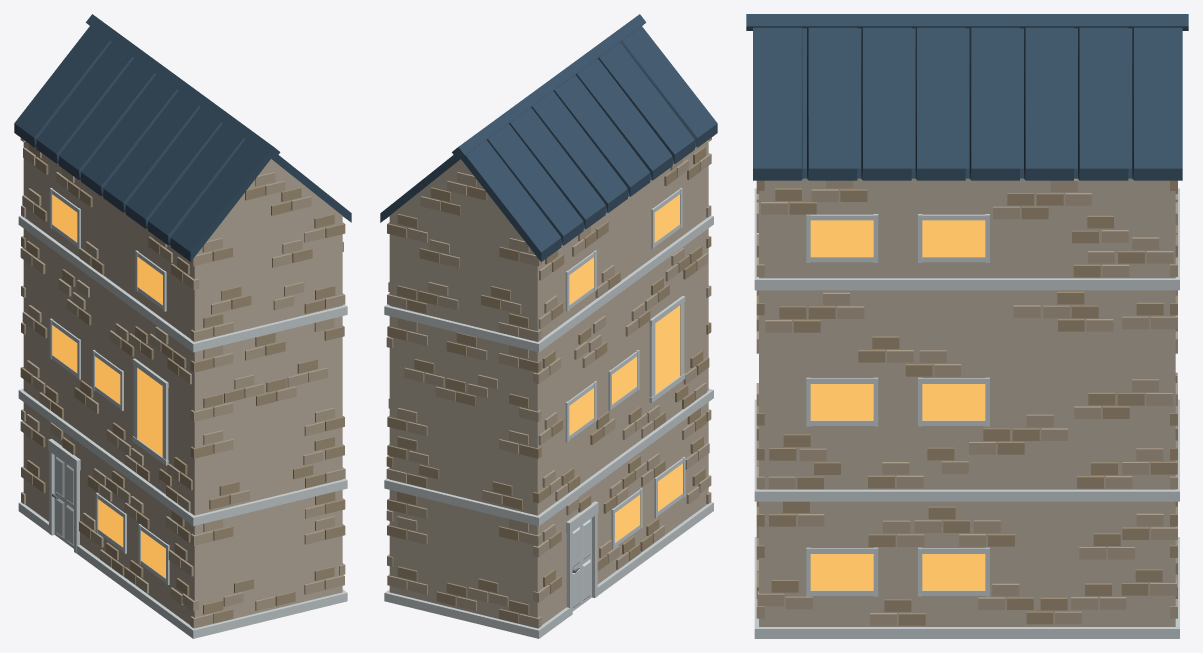
File: SM_House_18.fbx
3 views of the same model, side by side, from view 1: azimuth 30°, elevation 25°; view 2: azimuth 150°, elevation 25°; view 3: azimuth 270°, elevation 25° (orthographic). The views are drawn at different scales.
Parts seen in each view (by area): view 1: SM_House_18_LOD0; view 2: SM_House_18_LOD0; view 3: SM_House_18_LOD0.
Part boxes in pixels (<box>): SM_House_18_LOD0: <box>14,14,351,638</box>; SM_House_18_LOD0: <box>380,14,717,638</box>; SM_House_18_LOD0: <box>746,14,1188,638</box>.
Size of the model in its own units: 434 by 849 by 1228.
1 material, 1 textured.
